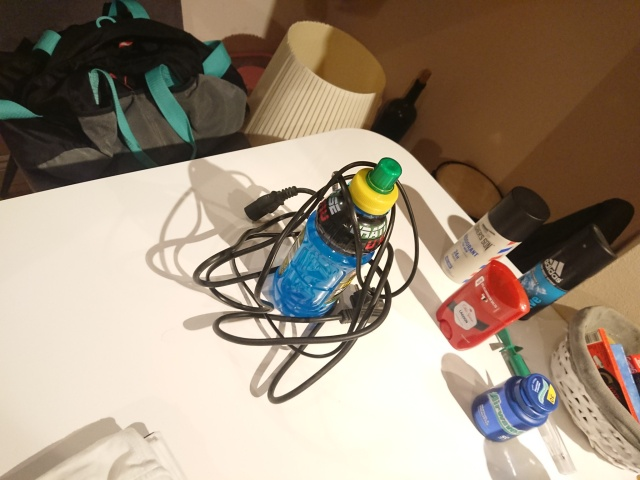Vindi Iso Sport Forest Strawberries 500mL: (269, 155, 404, 323)
